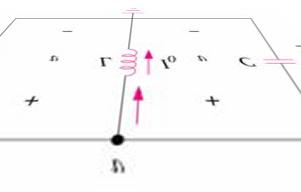inductor: (114, 40, 139, 83)
